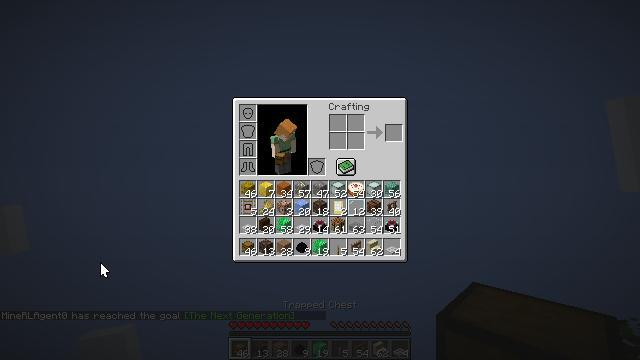cursor: (100, 262, 110, 278)
